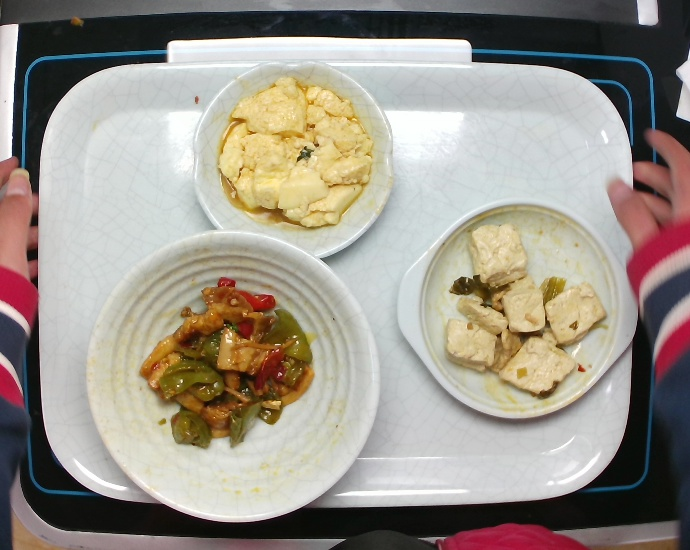JYsf-Ao_Yuan_Wan: (187, 57, 397, 269)
JYsf-Shuang_Er_Pan: (391, 195, 647, 419)
JYsf-Xiao_Tang_Wan: (81, 222, 392, 528)
